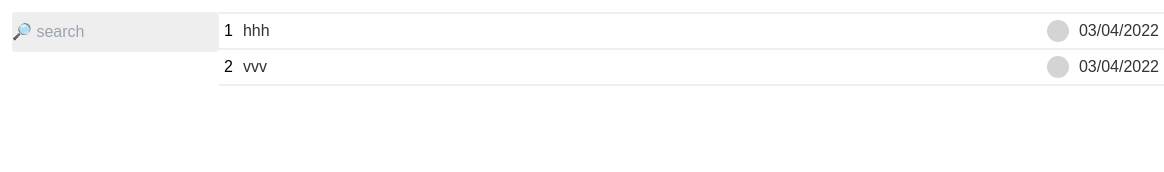
it: when typing filter input, should show only results that contains term
Type "hhh" into the search field with test id "filter-input" at (116, 32), box [12,12,219,52]
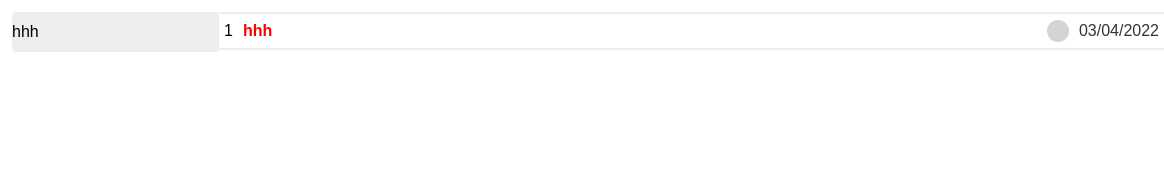
Expected: the element with test id "data-table-row" shows "hhh", [243,22,272,39]
Result: the link with test id "data-table-row" no longer shows "vvv"
